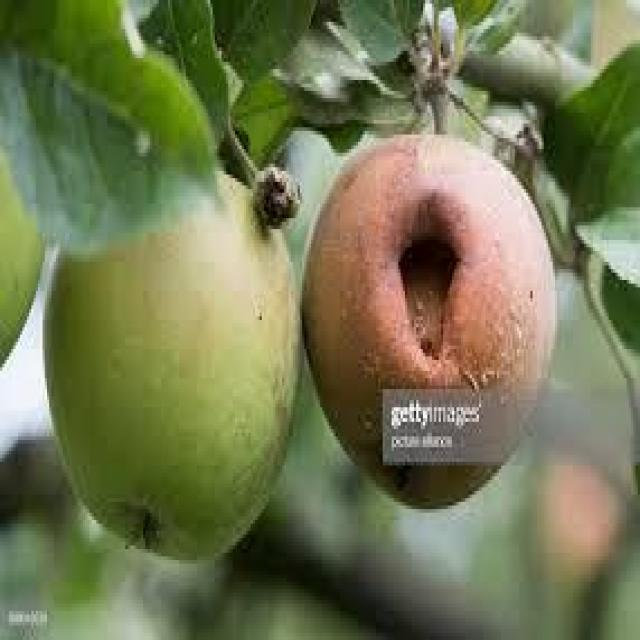maca: (40, 160, 302, 560), (300, 127, 557, 509)
